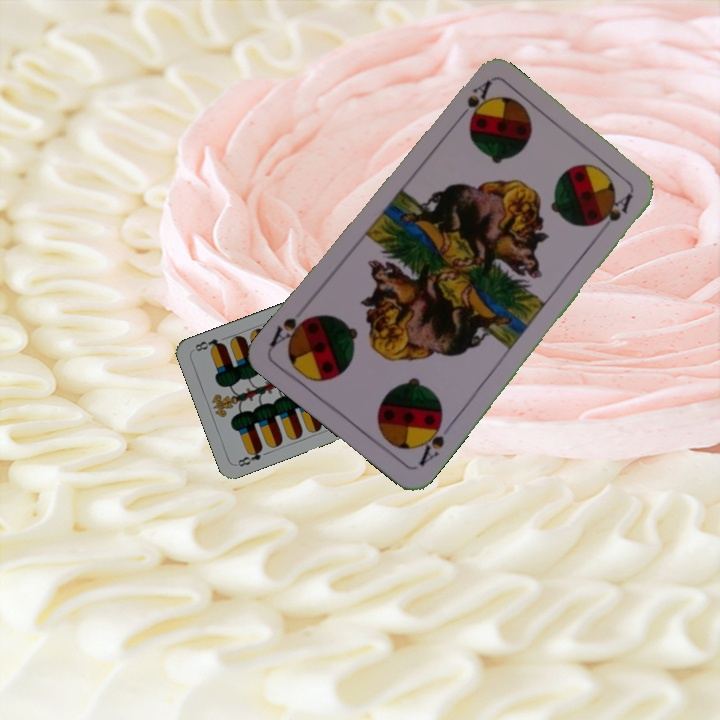E8: (233, 443, 265, 469)
SA: (450, 77, 494, 127), (414, 413, 447, 469)
